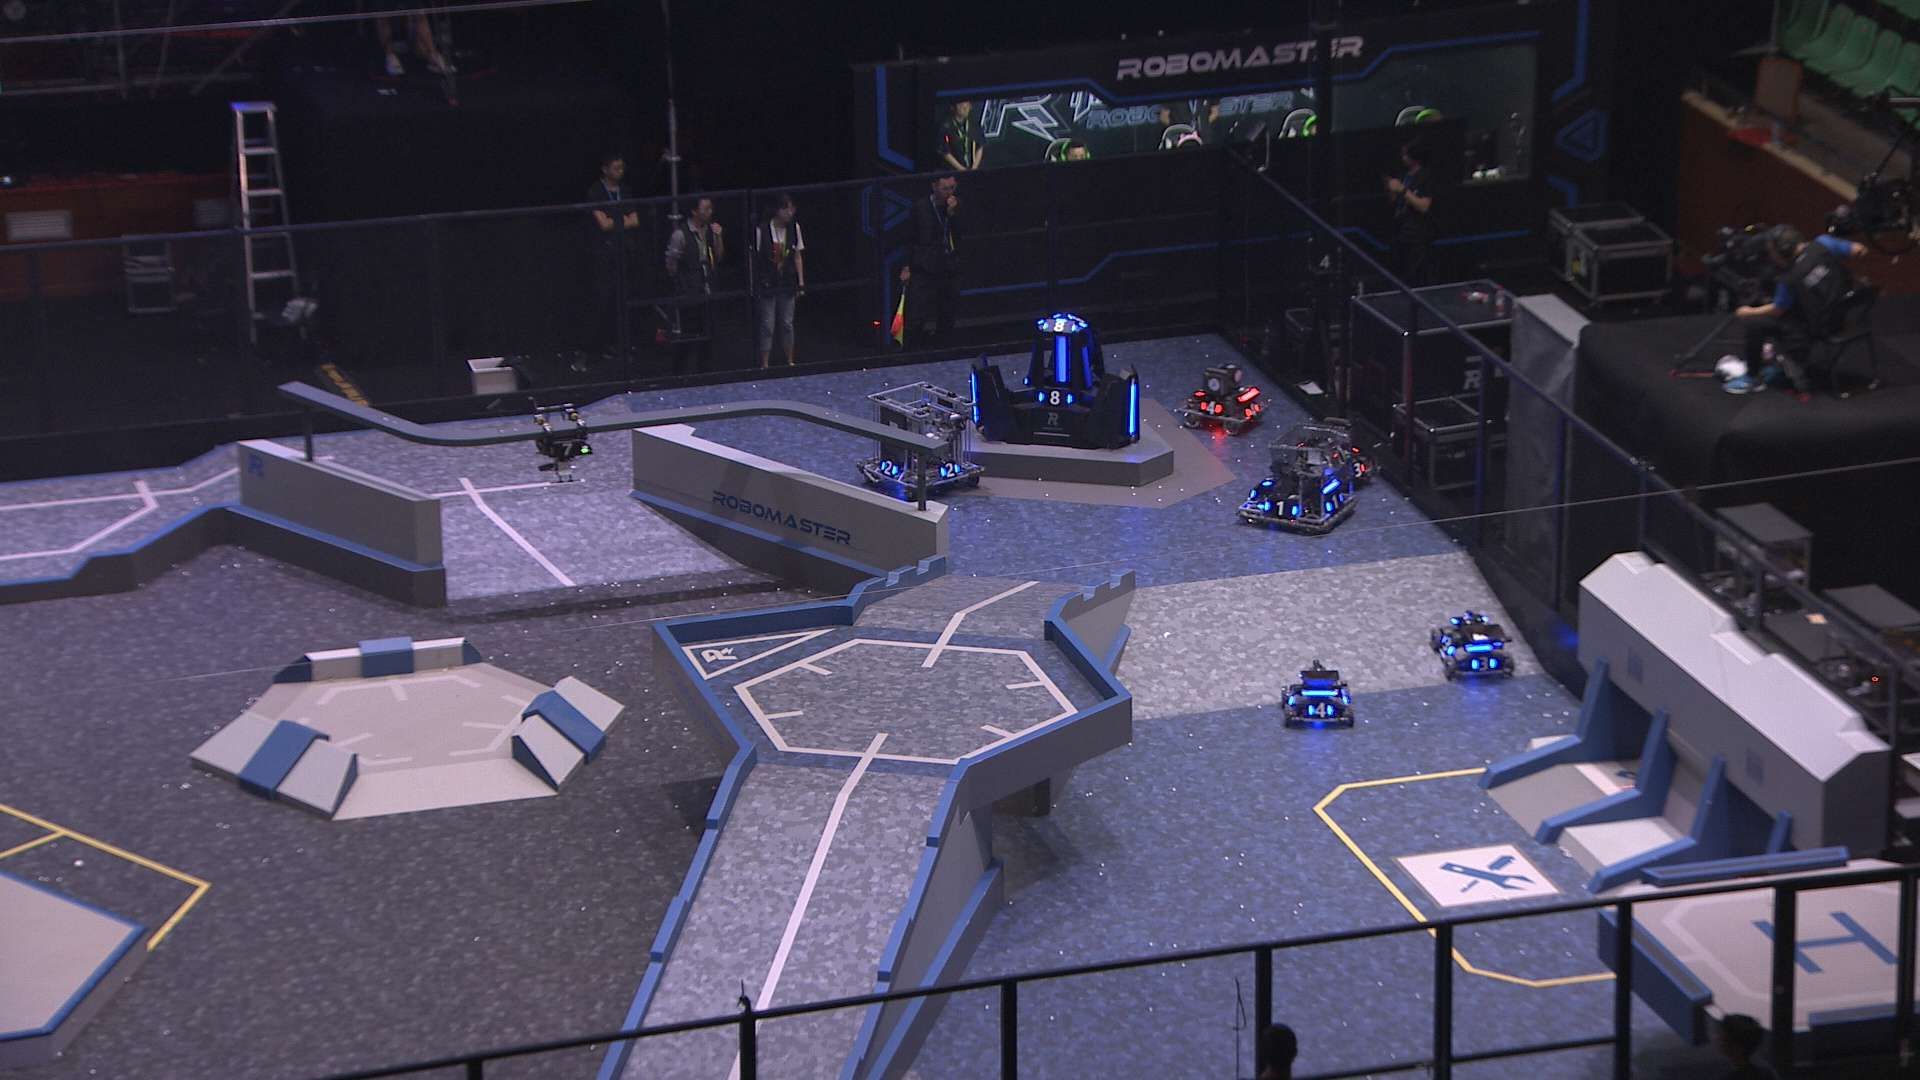armor: (1051, 334, 1069, 386), (967, 371, 982, 425), (1125, 381, 1139, 434), (1039, 315, 1079, 334), (1262, 498, 1298, 518), (1036, 389, 1077, 406), (547, 440, 588, 458), (1307, 699, 1337, 721), (1317, 489, 1346, 512), (1077, 343, 1093, 382), (1468, 654, 1501, 673), (1433, 632, 1457, 655), (936, 462, 961, 480), (1201, 398, 1222, 418), (1348, 458, 1367, 477), (1067, 311, 1087, 330), (880, 460, 899, 479), (1259, 469, 1276, 491), (1244, 400, 1261, 419)
base: (961, 309, 1143, 448)
car: (1230, 411, 1366, 537), (855, 378, 982, 501), (1280, 417, 1375, 496), (1427, 604, 1519, 683), (1174, 363, 1269, 434), (1278, 659, 1358, 733)
watcher: (527, 396, 593, 483)
